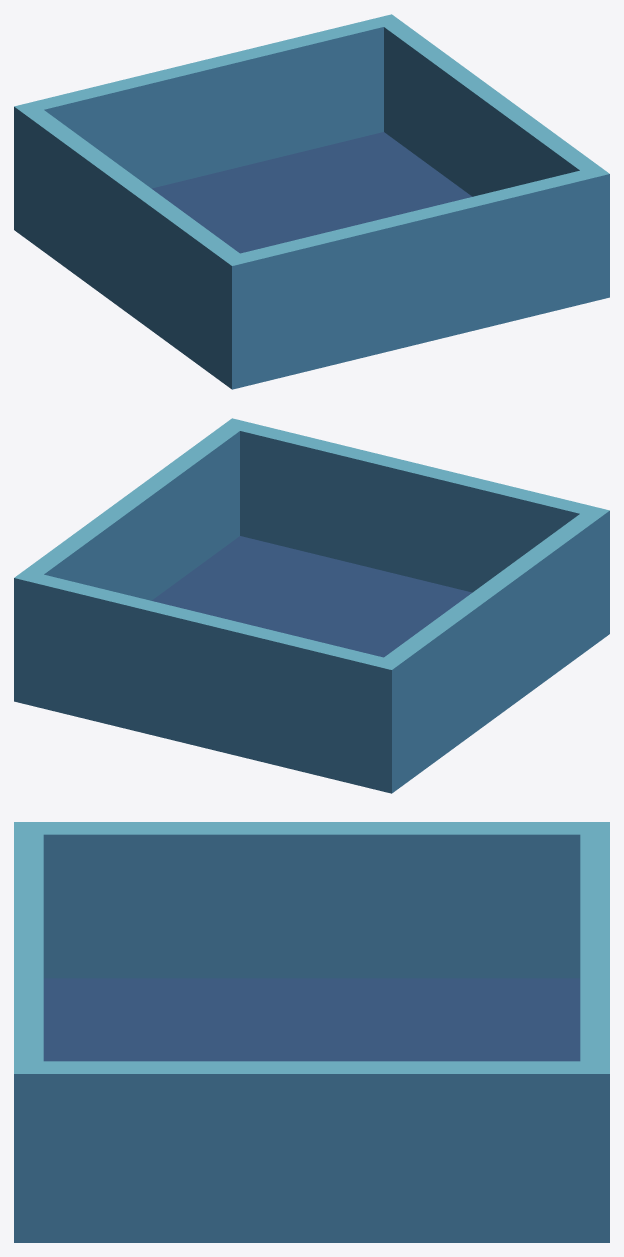
File: tile_size_reference.gltf
3 renders of one model, top to bottom at view 1: azimuth 30°, elevation 25°; view 2: azimuth 150°, elevation 25°; view 3: azimuth 270°, elevation 25°, orthographic. The views are drawn at different scales.
Parts seen in each view (by area): view 1: tile; view 2: tile; view 3: tile.
Part boxes in pixels (x1,y1,x2,y2): tile: (14,14,609,389); tile: (14,418,609,793); tile: (14,822,609,1242).
Size of the model in its own units: 1 by 0.3125 by 1.
1 material, 1 textured.
